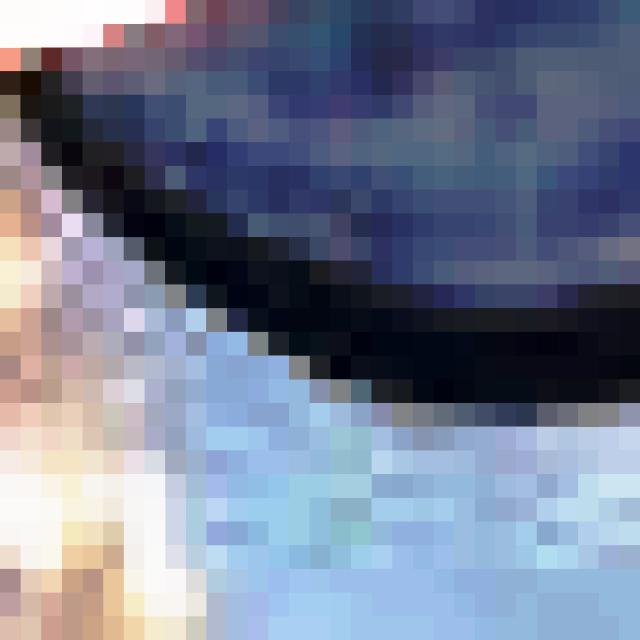arms: (20, 0, 640, 237)
